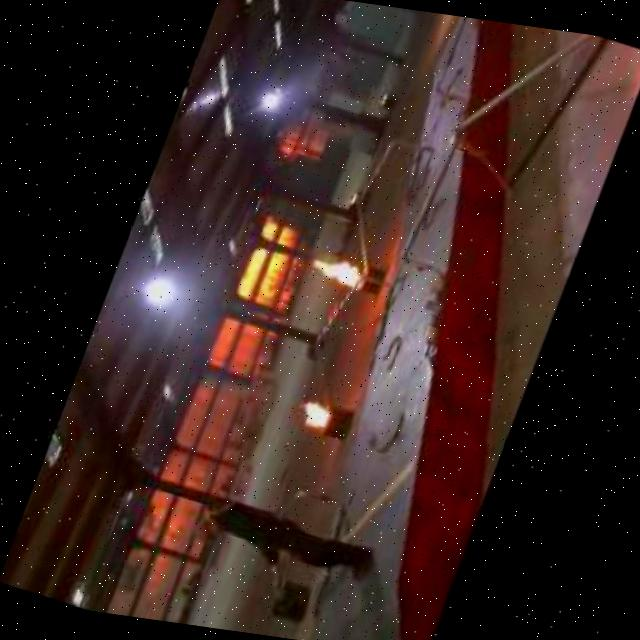fire: (310, 242, 380, 301), (299, 392, 338, 434)
